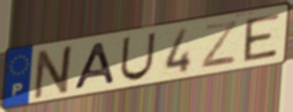4: (162, 27, 194, 75)
A: (71, 40, 118, 92)
E: (243, 11, 282, 63)
N: (31, 42, 78, 101)
U: (118, 31, 159, 83)
Z: (199, 18, 239, 70)
